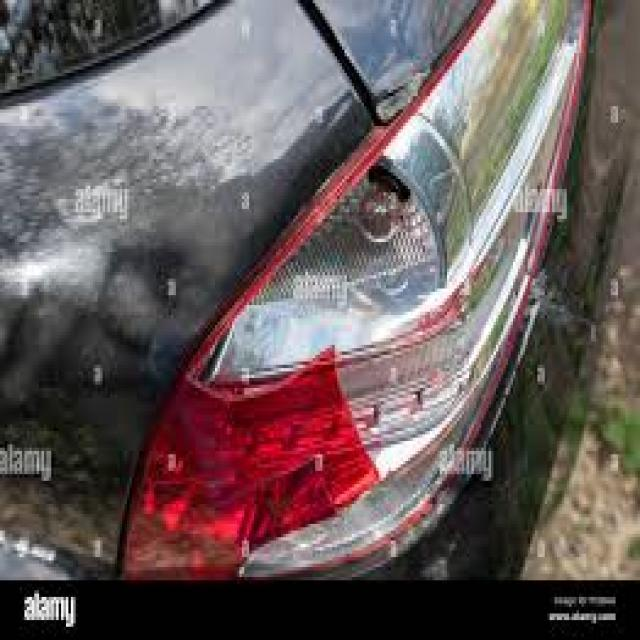damaged-tail-light: (120, 0, 601, 578)
